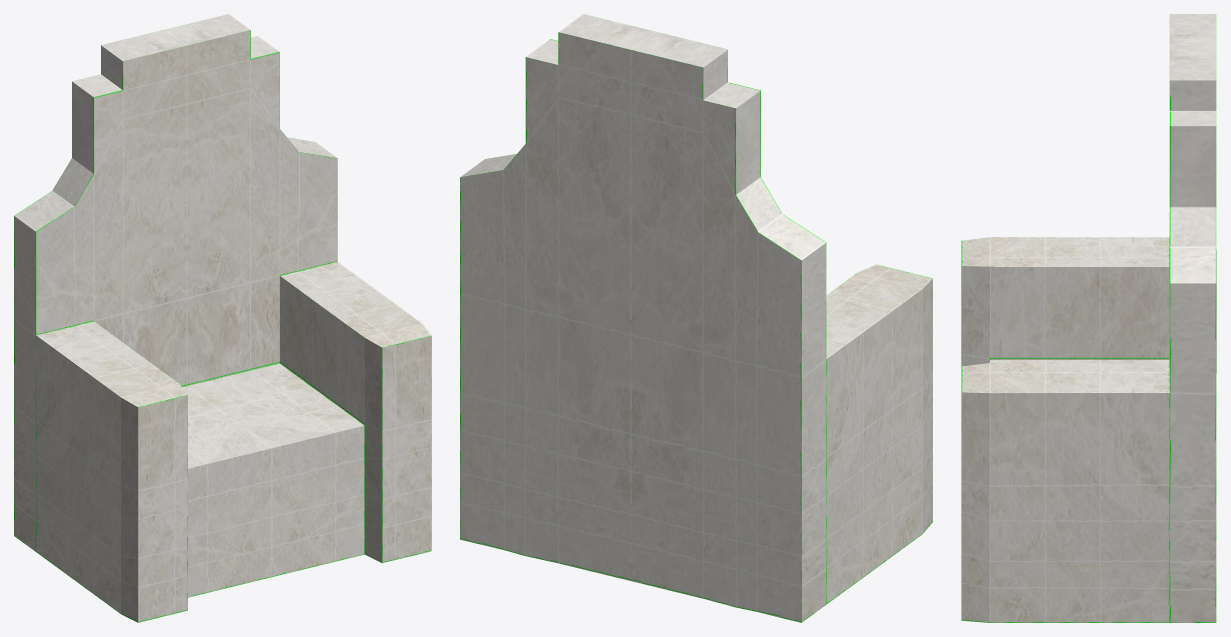
The model's file is throne.FBX.
3 views of the same model, side by side, from view 1: azimuth 30°, elevation 25°; view 2: azimuth 150°, elevation 25°; view 3: azimuth 270°, elevation 25° (orthographic). The views are drawn at different scales.
Parts seen in each view (by area): view 1: Throne; view 2: Throne; view 3: Throne.
Boxes of the visible parts, box(x1,y1,x2,y2) form: Throne: box(14, 14, 431, 622); Throne: box(460, 14, 932, 622); Throne: box(961, 14, 1216, 622).
Bounding box in the file's own units: 122 × 181 × 83.98.
